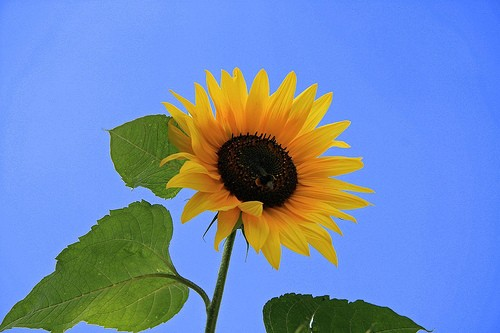flower: (156, 63, 381, 279)
